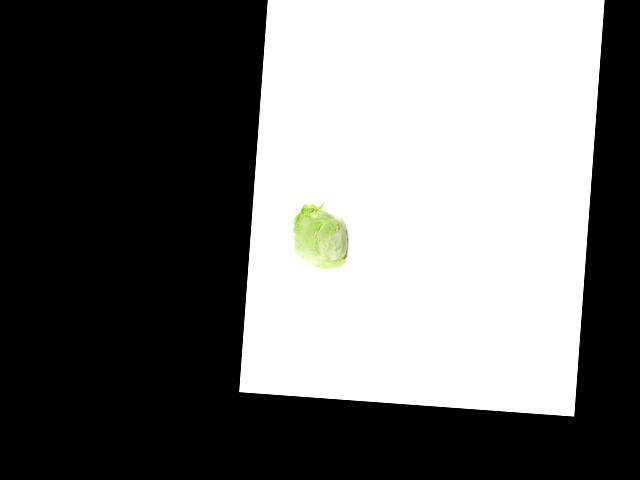lettuce: (287, 205, 352, 273)
